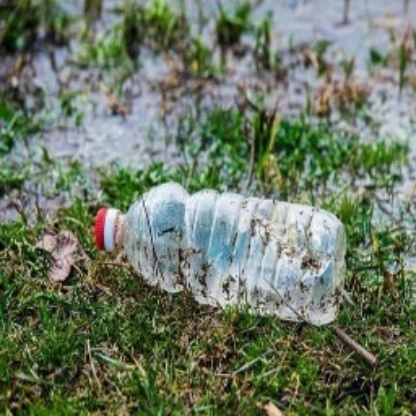bottle: (91, 179, 350, 330)
